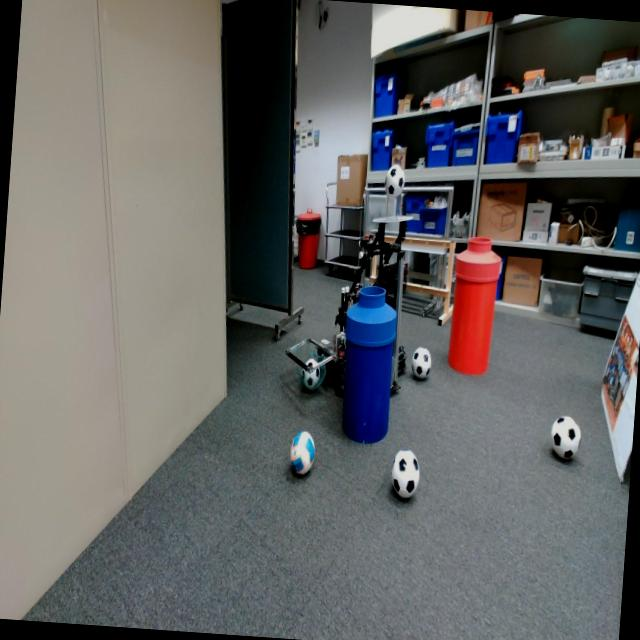Soccer Ball: (550, 416, 580, 461), (290, 428, 316, 478), (392, 450, 418, 496), (302, 348, 322, 390), (411, 347, 432, 380)
